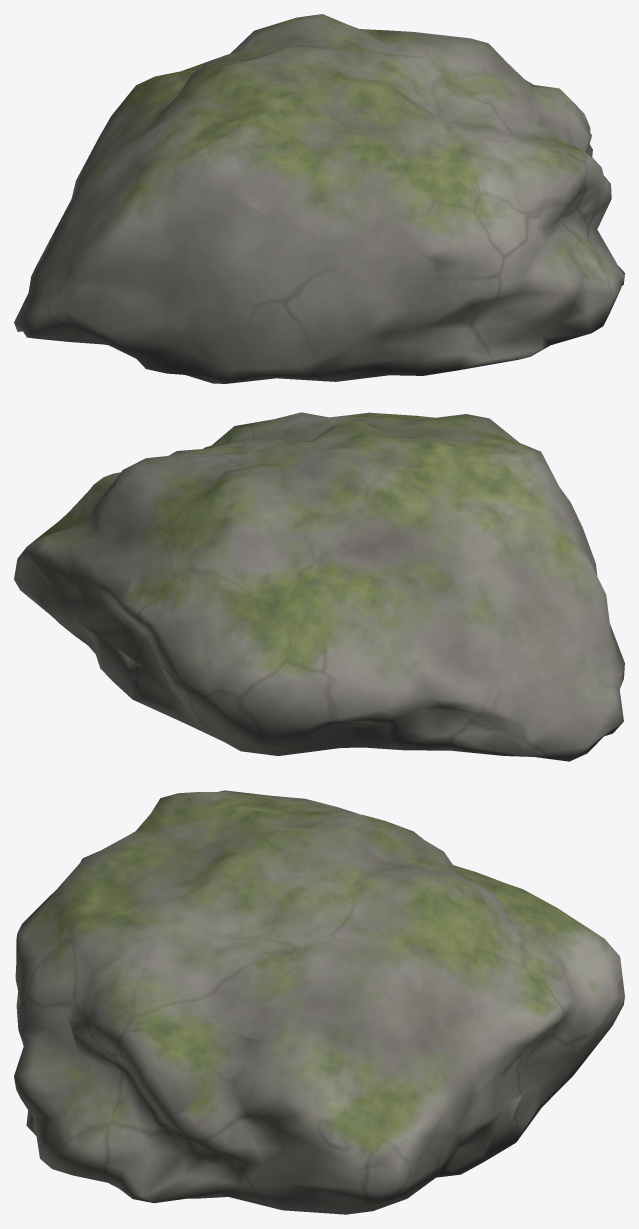
The model's file is rock_a.glb.
3 views of the same model, one above another, from view 1: azimuth 30°, elevation 25°; view 2: azimuth 150°, elevation 25°; view 3: azimuth 270°, elevation 25° (orthographic). The views are drawn at different scales.
Parts seen in each view (by area): view 1: rock_a; view 2: rock_a; view 3: rock_a.
Boxes of the visible parts, x1,y1,x2,y2 form: rock_a: (14, 14, 624, 383); rock_a: (14, 412, 624, 761); rock_a: (14, 790, 624, 1214).
Bounding box in the file's own units: 2.2 × 0.849 × 1.83.
Materials: 1 (1 with a texture image).
